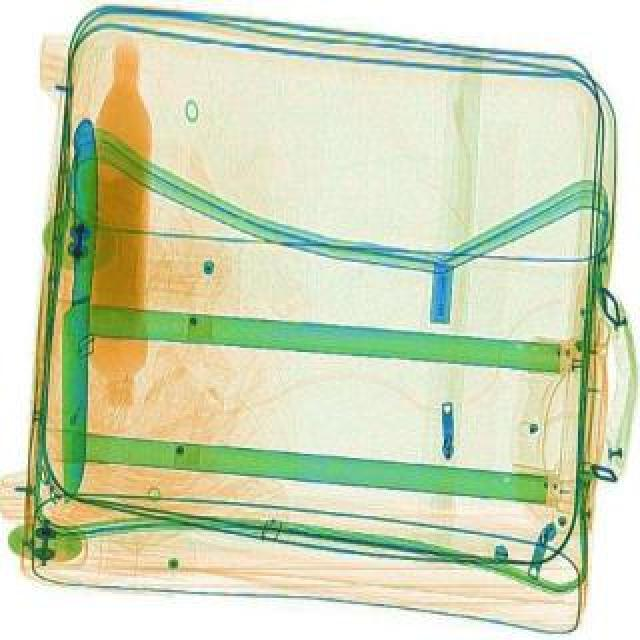knife: (54, 116, 106, 496)
